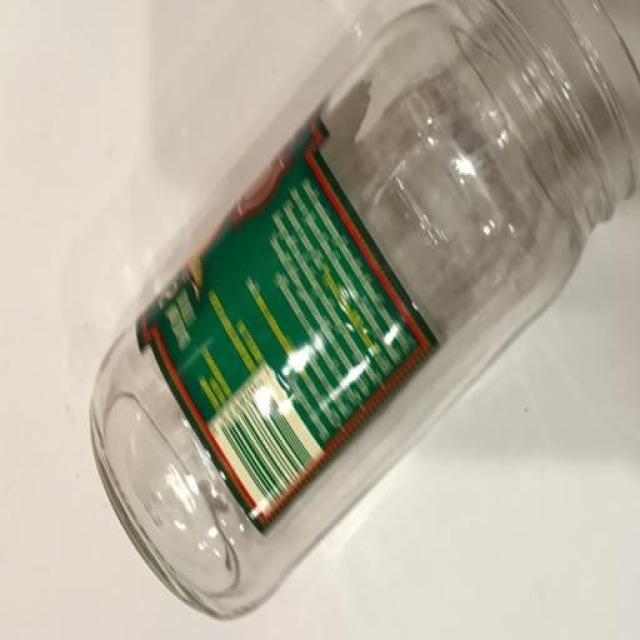glass: (90, 0, 640, 620)
